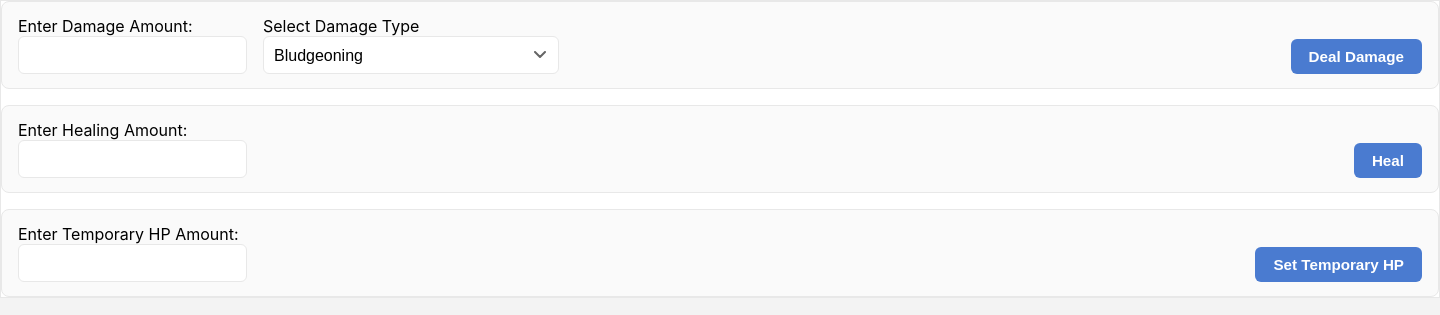
it: ActionBar › strips non-digit characters from the damage input
Type "12ab3" into the field labelled "Enter Damage Amount:" at (132, 55), box [18, 36, 247, 74]
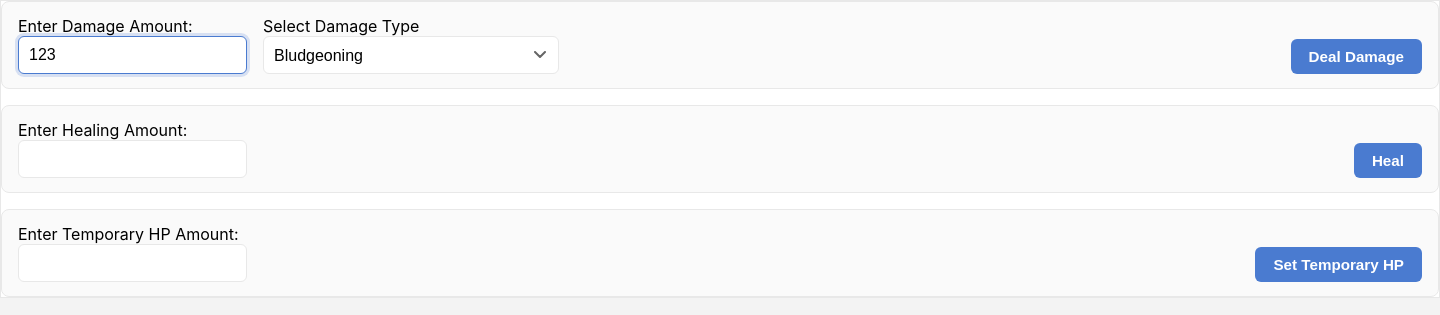
Check: the field labelled "Enter Damage Amount:" holds "123", box [18, 36, 247, 74]
